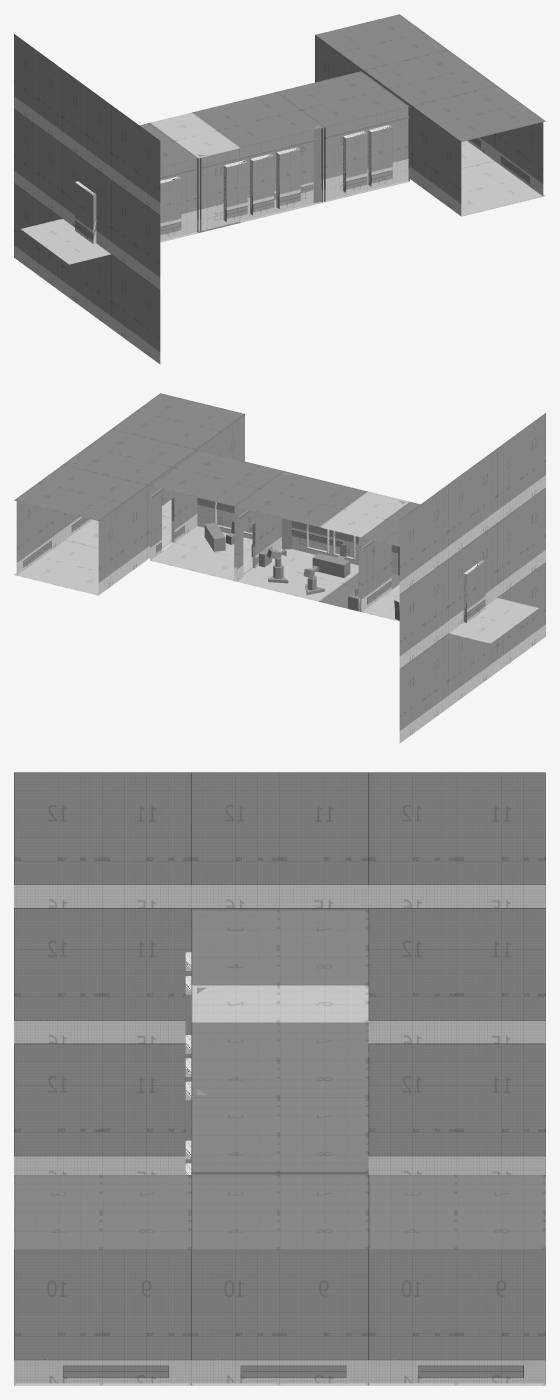
File: officesRough03.fbx
3 renders of one model, top to bottom at view 1: azimuth 30°, elevation 25°; view 2: azimuth 150°, elevation 25°; view 3: azimuth 270°, elevation 25°, orthographic. The views are drawn at different scales.
Parts seen in each view (by area): view 1: presOffBlackWall01001Rev; view 2: presOffBlackWall01001Rev; view 3: presOffBlackWall01001Rev.
Part boxes in pixels (x1,y1,x2,y2): presOffBlackWall01001Rev: [14, 14, 545, 364]; presOffBlackWall01001Rev: [14, 393, 545, 743]; presOffBlackWall01001Rev: [14, 772, 545, 1385].
Size of the model in its own units: 25.92 by 12.96 by 15.36.
